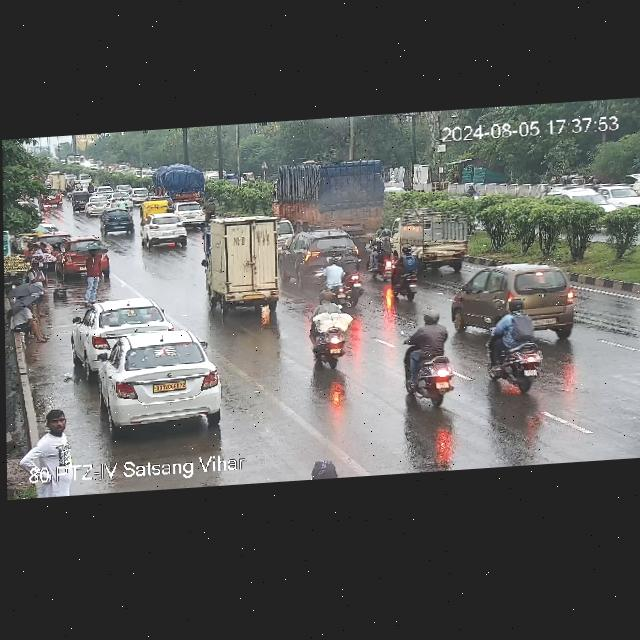car: (81, 328, 222, 432), (450, 259, 582, 337), (76, 296, 170, 362), (284, 227, 360, 285), (545, 180, 616, 221), (59, 233, 113, 276), (136, 219, 189, 252), (171, 201, 212, 228), (100, 209, 135, 236), (141, 200, 172, 221), (41, 184, 67, 209), (85, 196, 113, 215), (70, 190, 92, 213), (128, 188, 154, 204)
motorcycle: (487, 297, 542, 387), (403, 308, 452, 405), (314, 293, 354, 367), (392, 244, 425, 300), (324, 252, 357, 303), (366, 227, 392, 277)
person: (34, 410, 75, 471), (292, 458, 371, 481), (10, 301, 52, 343), (79, 245, 101, 299), (31, 241, 55, 286)
truck: (274, 149, 402, 238), (206, 216, 278, 316), (385, 210, 483, 273), (154, 162, 208, 208)
